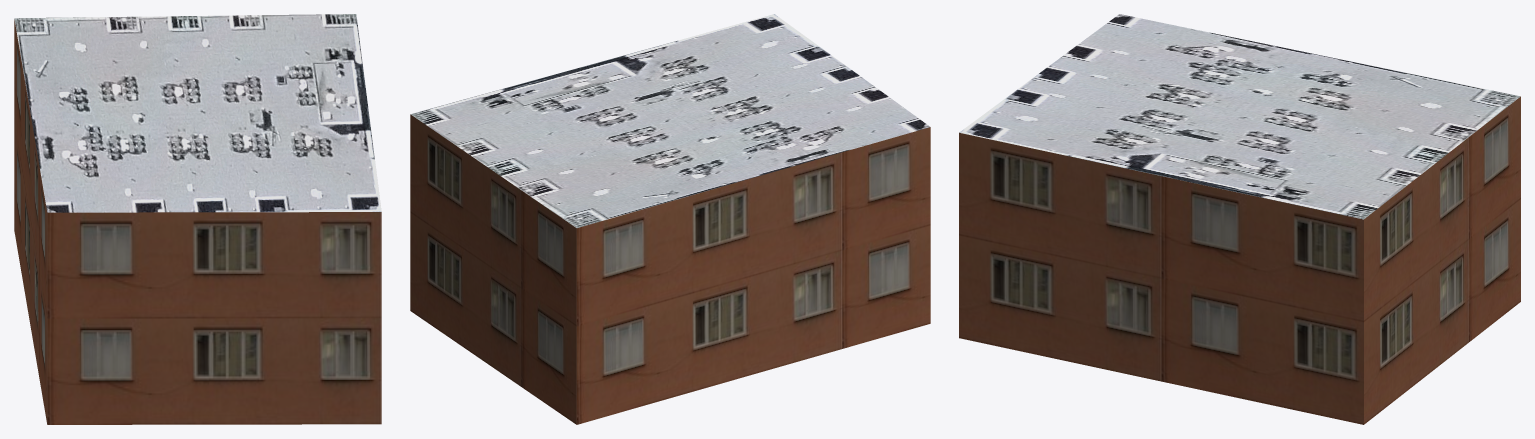
File: ResTex__361.fbx
3 renders of one model, left to right at view 1: azimuth 30°, elevation 25°; view 2: azimuth 150°, elevation 25°; view 3: azimuth 270°, elevation 25°, orthographic. The views are drawn at different scales.
Visible parts, largest first — view 1: CityEngineMaterial_20_m, CityEngineMaterial_8_m; view 2: CityEngineMaterial_20_m, CityEngineMaterial_8_m; view 3: CityEngineMaterial_20_m, CityEngineMaterial_8_m.
Part boxes in pixels (bbox=[...]): CityEngineMaterial_20_m: bbox=[14, 19, 381, 424]; CityEngineMaterial_8_m: bbox=[14, 14, 381, 212]; CityEngineMaterial_20_m: bbox=[410, 114, 930, 424]; CityEngineMaterial_8_m: bbox=[410, 14, 929, 227]; CityEngineMaterial_20_m: bbox=[959, 96, 1520, 424]; CityEngineMaterial_8_m: bbox=[959, 14, 1520, 219].
Bounding box in the file's own units: 12.88 × 6 × 14.88.
2 materials, 2 textured.
